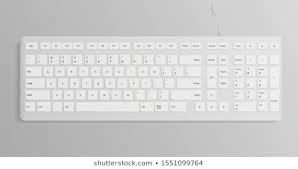keyboard: (16, 34, 291, 121)
